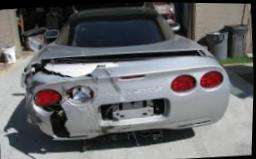Bumper: (30, 89, 180, 153)
Dickey: (22, 33, 219, 88)
Light: (59, 81, 99, 110)
